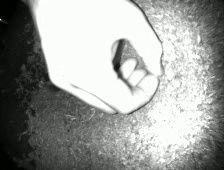corn: (149, 71, 161, 80)
